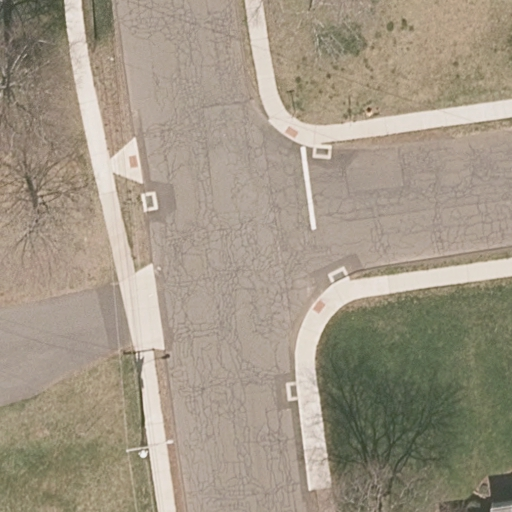DT: (125, 438, 176, 459)
